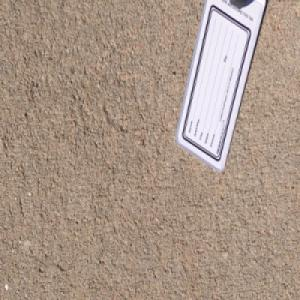LuggageTag: (173, 0, 265, 174)
